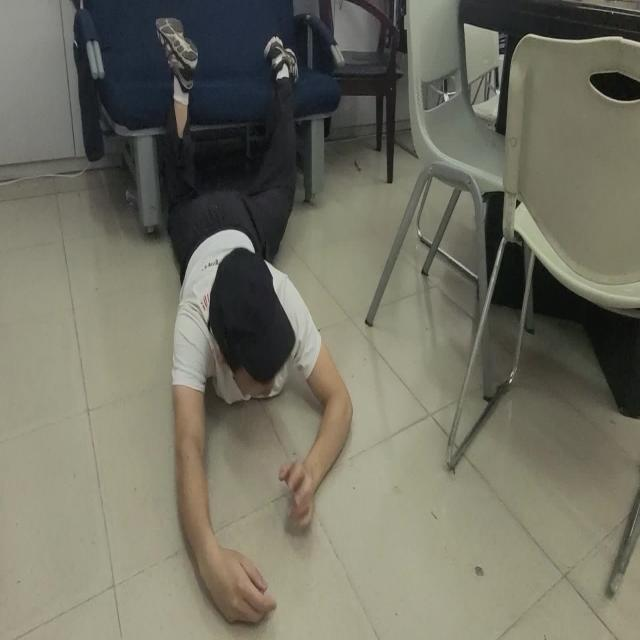fall: (152, 13, 358, 635)
